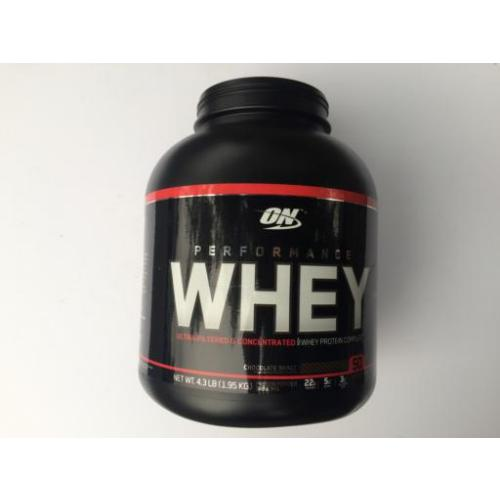plastic: (142, 78, 375, 420)
